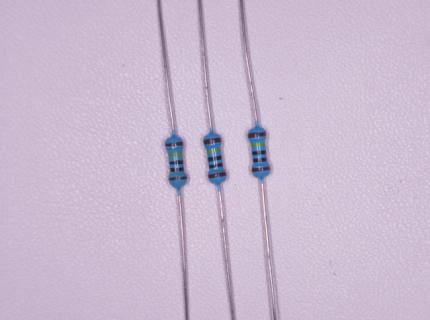Black band: (208, 155, 223, 162), (209, 163, 224, 169), (252, 150, 267, 156), (170, 167, 184, 173), (253, 157, 267, 163), (169, 160, 183, 165)
Brown band: (247, 131, 266, 139), (204, 137, 221, 145), (208, 172, 227, 179), (165, 141, 183, 147), (252, 166, 270, 172), (169, 176, 188, 181)
Yellow band: (207, 148, 221, 154), (168, 152, 183, 157), (251, 142, 265, 147)
